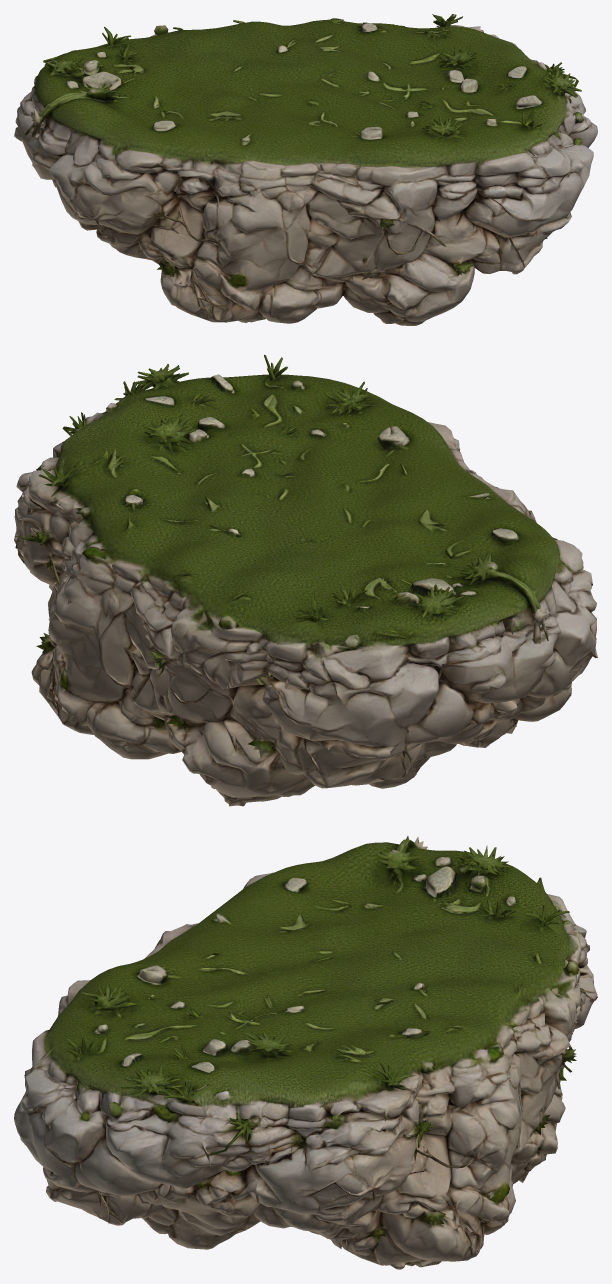
The model's file is island.glb.
The picture shows the model from 3 angles, top to bottom: view 1: azimuth 30°, elevation 25°; view 2: azimuth 150°, elevation 25°; view 3: azimuth 270°, elevation 25°; orthographic projection. The views are drawn at different scales.
Visible parts, largest first — view 1: tripo_node_0657fb23-e91a-44d1-a6c1-1a8d15690351; view 2: tripo_node_0657fb23-e91a-44d1-a6c1-1a8d15690351; view 3: tripo_node_0657fb23-e91a-44d1-a6c1-1a8d15690351.
Part boxes in pixels (x1,y1,x2,y2): tripo_node_0657fb23-e91a-44d1-a6c1-1a8d15690351: (14, 14, 597, 325); tripo_node_0657fb23-e91a-44d1-a6c1-1a8d15690351: (14, 354, 597, 806); tripo_node_0657fb23-e91a-44d1-a6c1-1a8d15690351: (14, 836, 597, 1269).
Bounding box in the file's own units: 0.9823 × 0.4086 × 0.8618.
1 material, 1 textured.
